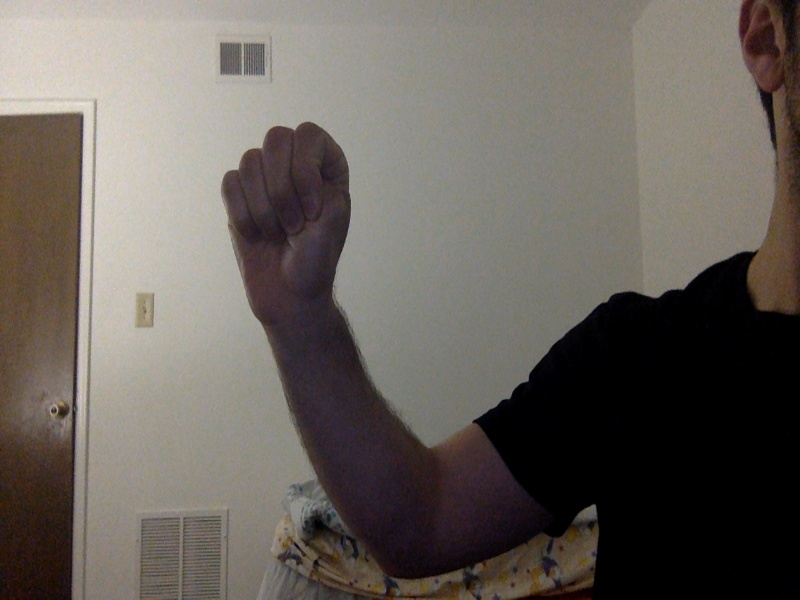0-hand: (221, 123, 350, 322)
